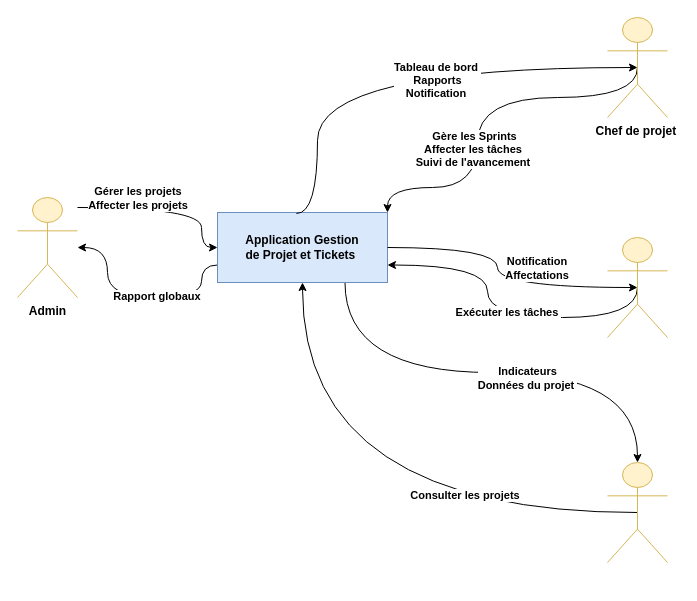
Some shapes in this 697 by 601 pixel diagram are drawn without their labels. The shapes that lost their labels are listed below. From the top down, each one's centre as x and y in pixels, then its label:
At [637,287]: "Membre".
At [637,512]: "Observateur".
